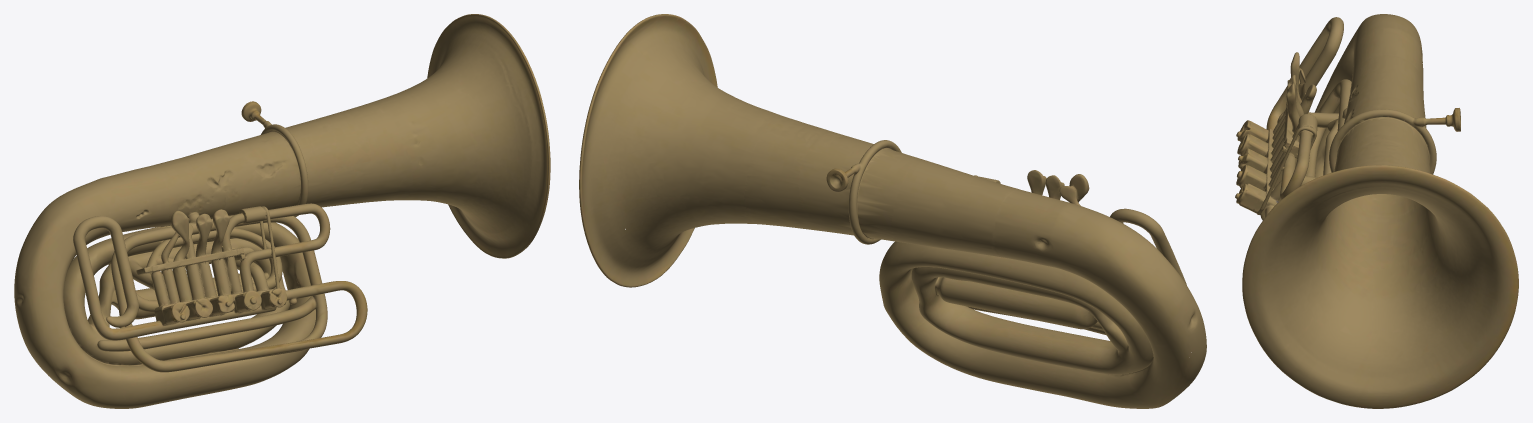
Rendered from tuba.glb.
3 views of the same model, side by side, from view 1: azimuth 30°, elevation 25°; view 2: azimuth 150°, elevation 25°; view 3: azimuth 270°, elevation 25° (orthographic). The views are drawn at different scales.
Visible parts, largest first — view 1: tripo_node_869345ba-9122-45a1-b12b-09248d08d2e4; view 2: tripo_node_869345ba-9122-45a1-b12b-09248d08d2e4; view 3: tripo_node_869345ba-9122-45a1-b12b-09248d08d2e4.
Boxes of the visible parts, x1,y1,x2,y2 form: tripo_node_869345ba-9122-45a1-b12b-09248d08d2e4: (14,14,550,408); tripo_node_869345ba-9122-45a1-b12b-09248d08d2e4: (579,14,1206,408); tripo_node_869345ba-9122-45a1-b12b-09248d08d2e4: (1235,14,1518,408).
Bounding box in the file's own units: 0.9801 × 0.5145 × 0.436.
1 material, 1 textured.
